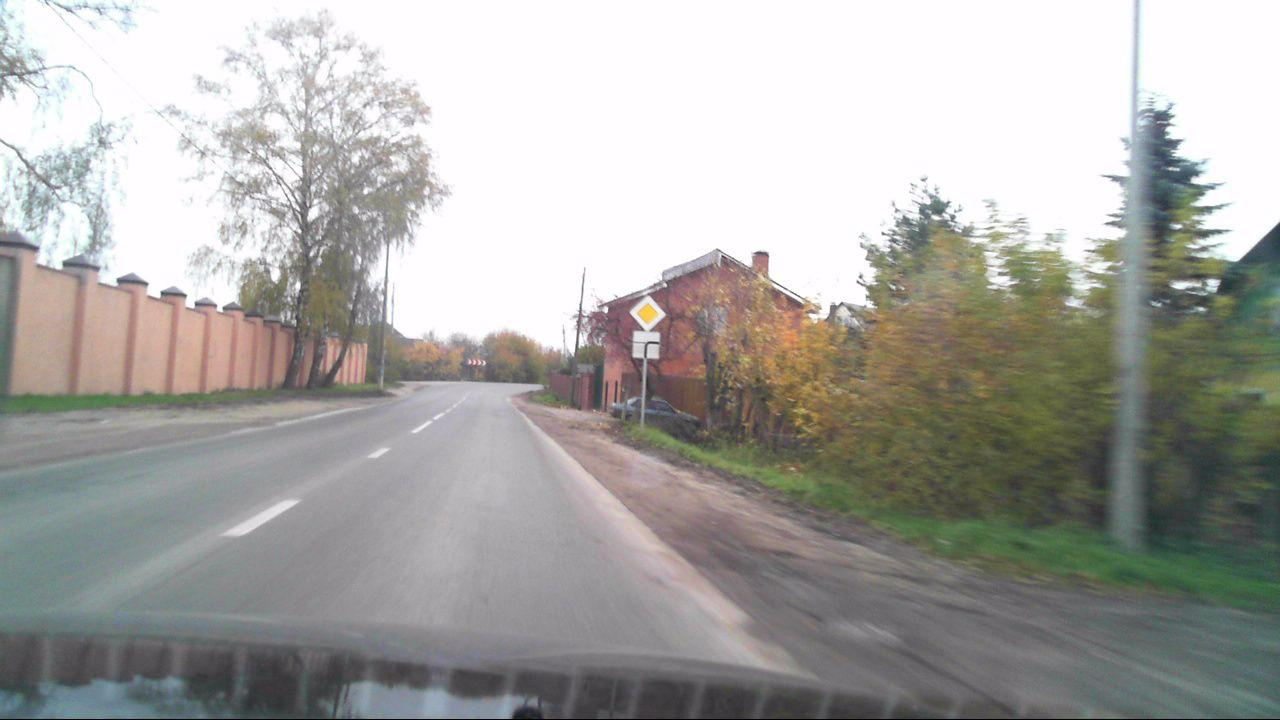1_34_1: (467, 358, 487, 365)
2_1: (630, 294, 666, 331)
8_13: (632, 330, 660, 359)
